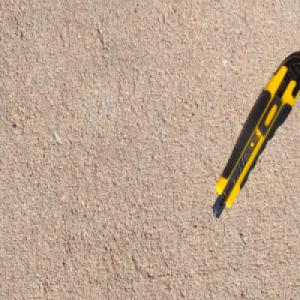Cutter: (210, 52, 300, 221)
